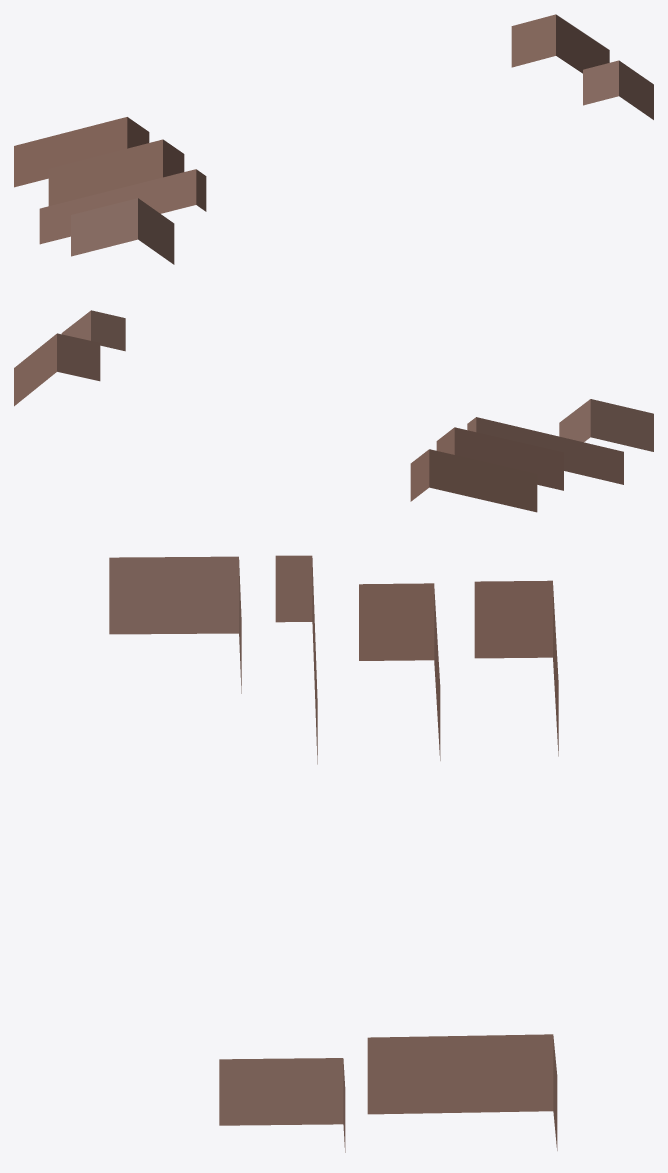
File: c_1632_17819_buildings_residential.glb
3 views of the same model, one above another, from view 1: azimuth 30°, elevation 25°; view 2: azimuth 150°, elevation 25°; view 3: azimuth 270°, elevation 25° (orthographic). The views are drawn at different scales.
Visible parts, largest first — view 1: geometry_0; view 2: geometry_0; view 3: geometry_0.
Boxes of the visible parts, bbox=[...] form: geometry_0: bbox=[14, 14, 653, 264]; geometry_0: bbox=[14, 310, 653, 512]; geometry_0: bbox=[109, 555, 558, 1152].
Size of the model in its own units: 164 by 11.55 by 58.28.
